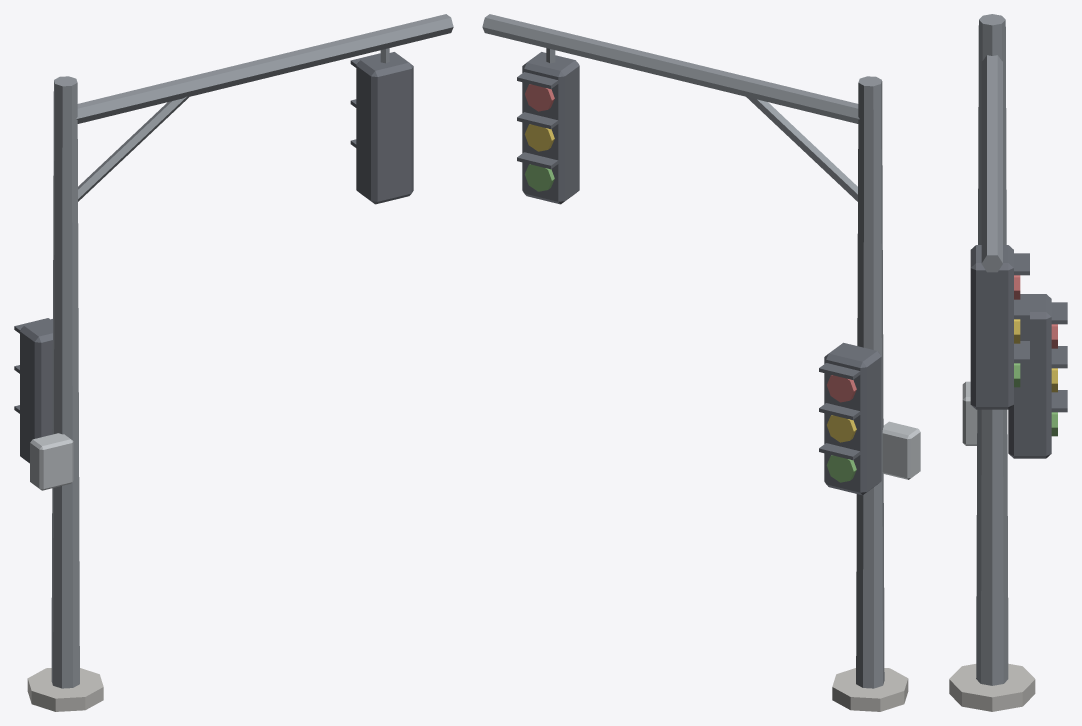
Rendered from mobiliario__semaforo.glb.
3 views of the same model, side by side, from view 1: azimuth 30°, elevation 25°; view 2: azimuth 150°, elevation 25°; view 3: azimuth 270°, elevation 25° (orthographic). The views are drawn at different scales.
Parts seen in each view (by area): view 1: mobiliario__semaforo; view 2: mobiliario__semaforo; view 3: mobiliario__semaforo.
Part boxes in pixels (left/top/right/bottom): mobiliario__semaforo: left=14, top=14, right=453, bottom=711; mobiliario__semaforo: left=482, top=14, right=920, bottom=711; mobiliario__semaforo: left=949, top=14, right=1067, bottom=711.
Bounding box in the file's own units: 0.99 × 1.38 × 0.22.
